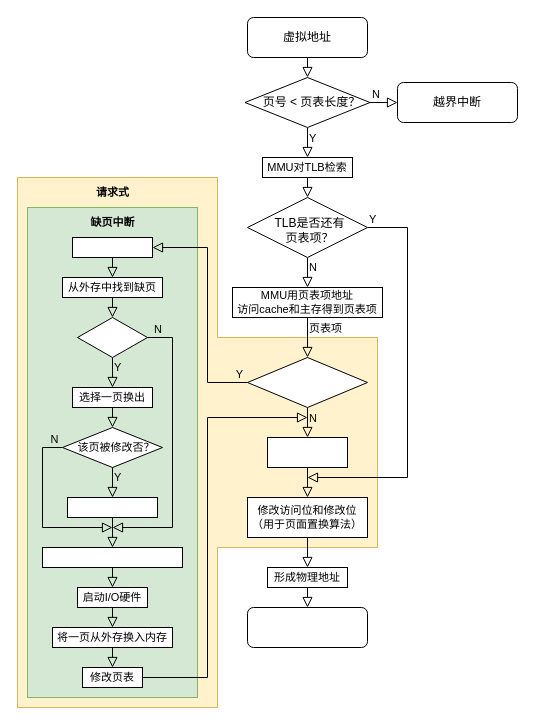
This 536x725 diagram has some shape labels left out. Each missing label, with the centre of its shape:
OS命令CPU从外存读缺页: (x=112, y=557)
保留CPU现场: (x=112, y=247)
内存满否？: (x=112, y=337)
地址变换结束: (x=307, y=627)
将该页写回外存: (x=112, y=507)
更新TLB，将页表项添加到TLB: (x=307, y=452)
有效位==0？ 即是否缺页？: (x=307, y=382)
